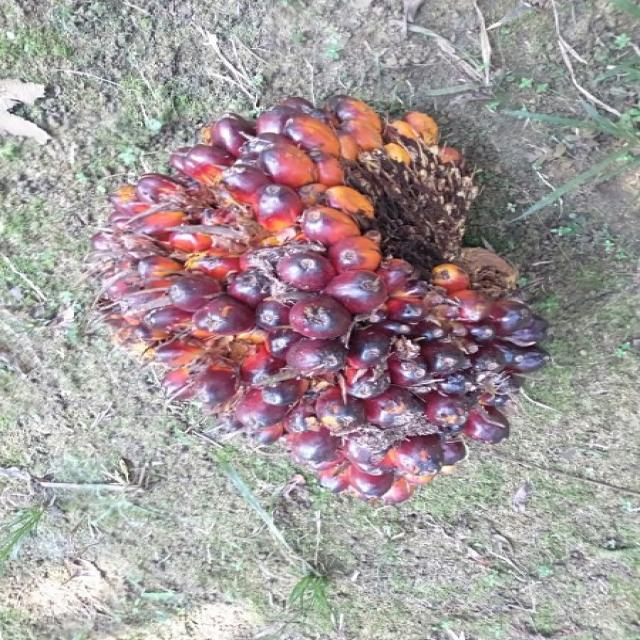fraksi 1: (35, 93, 598, 542)
